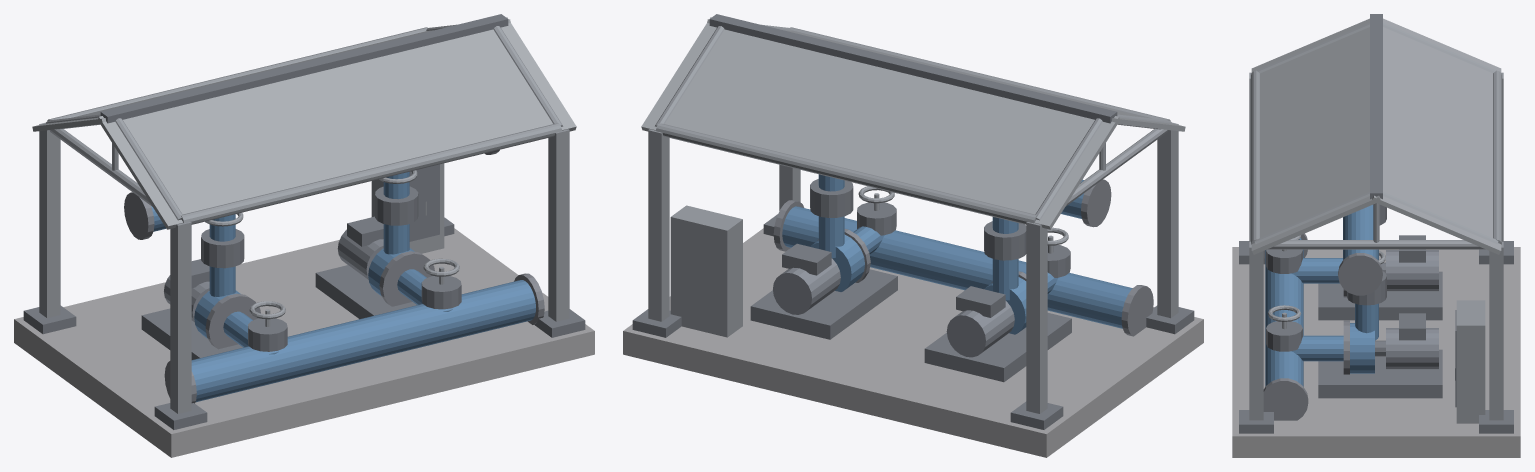
Rendered from casa-bombas.glb.
The picture shows the model from 3 angles, left to right: view 1: azimuth 30°, elevation 25°; view 2: azimuth 150°, elevation 25°; view 3: azimuth 270°, elevation 25°; orthographic projection. The views are drawn at different scales.
Visible parts, largest first — view 1: world; view 2: world; view 3: world.
Part boxes in pixels (x1,y1,x2,y2): world: (14,14,594,457); world: (623,14,1203,457); world: (1232,14,1520,457).
Size of the model in its own units: 5.6 by 3.58 by 3.6.
